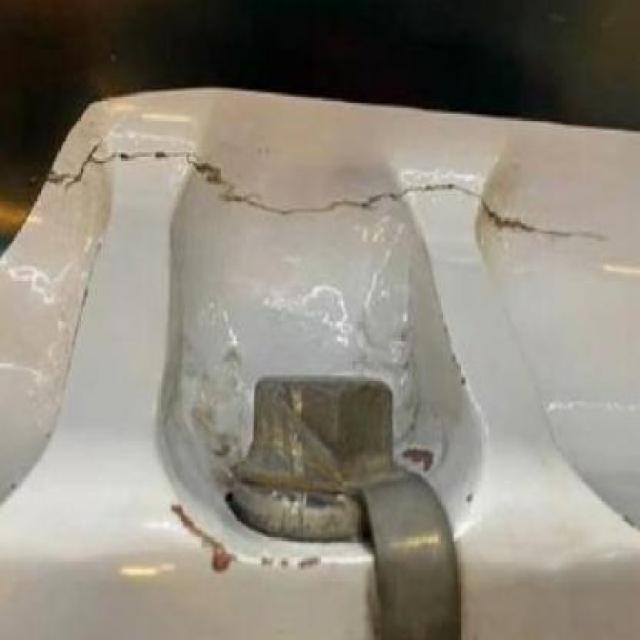crack: (41, 133, 611, 252)
